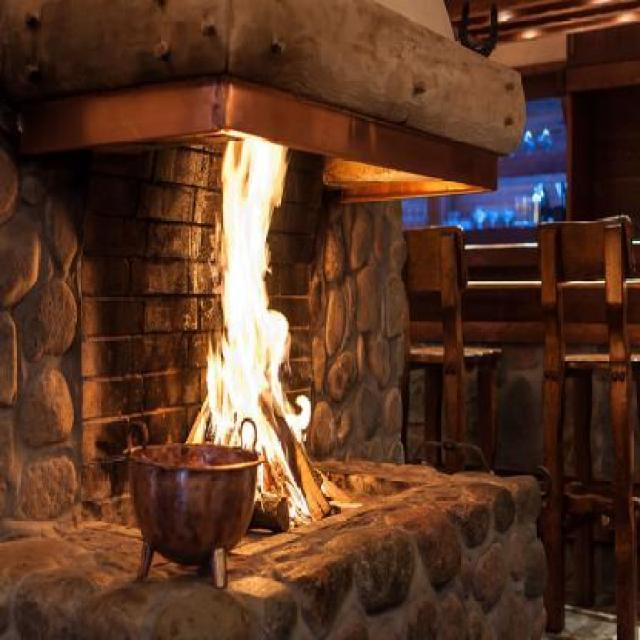Fire: (193, 138, 311, 470)
